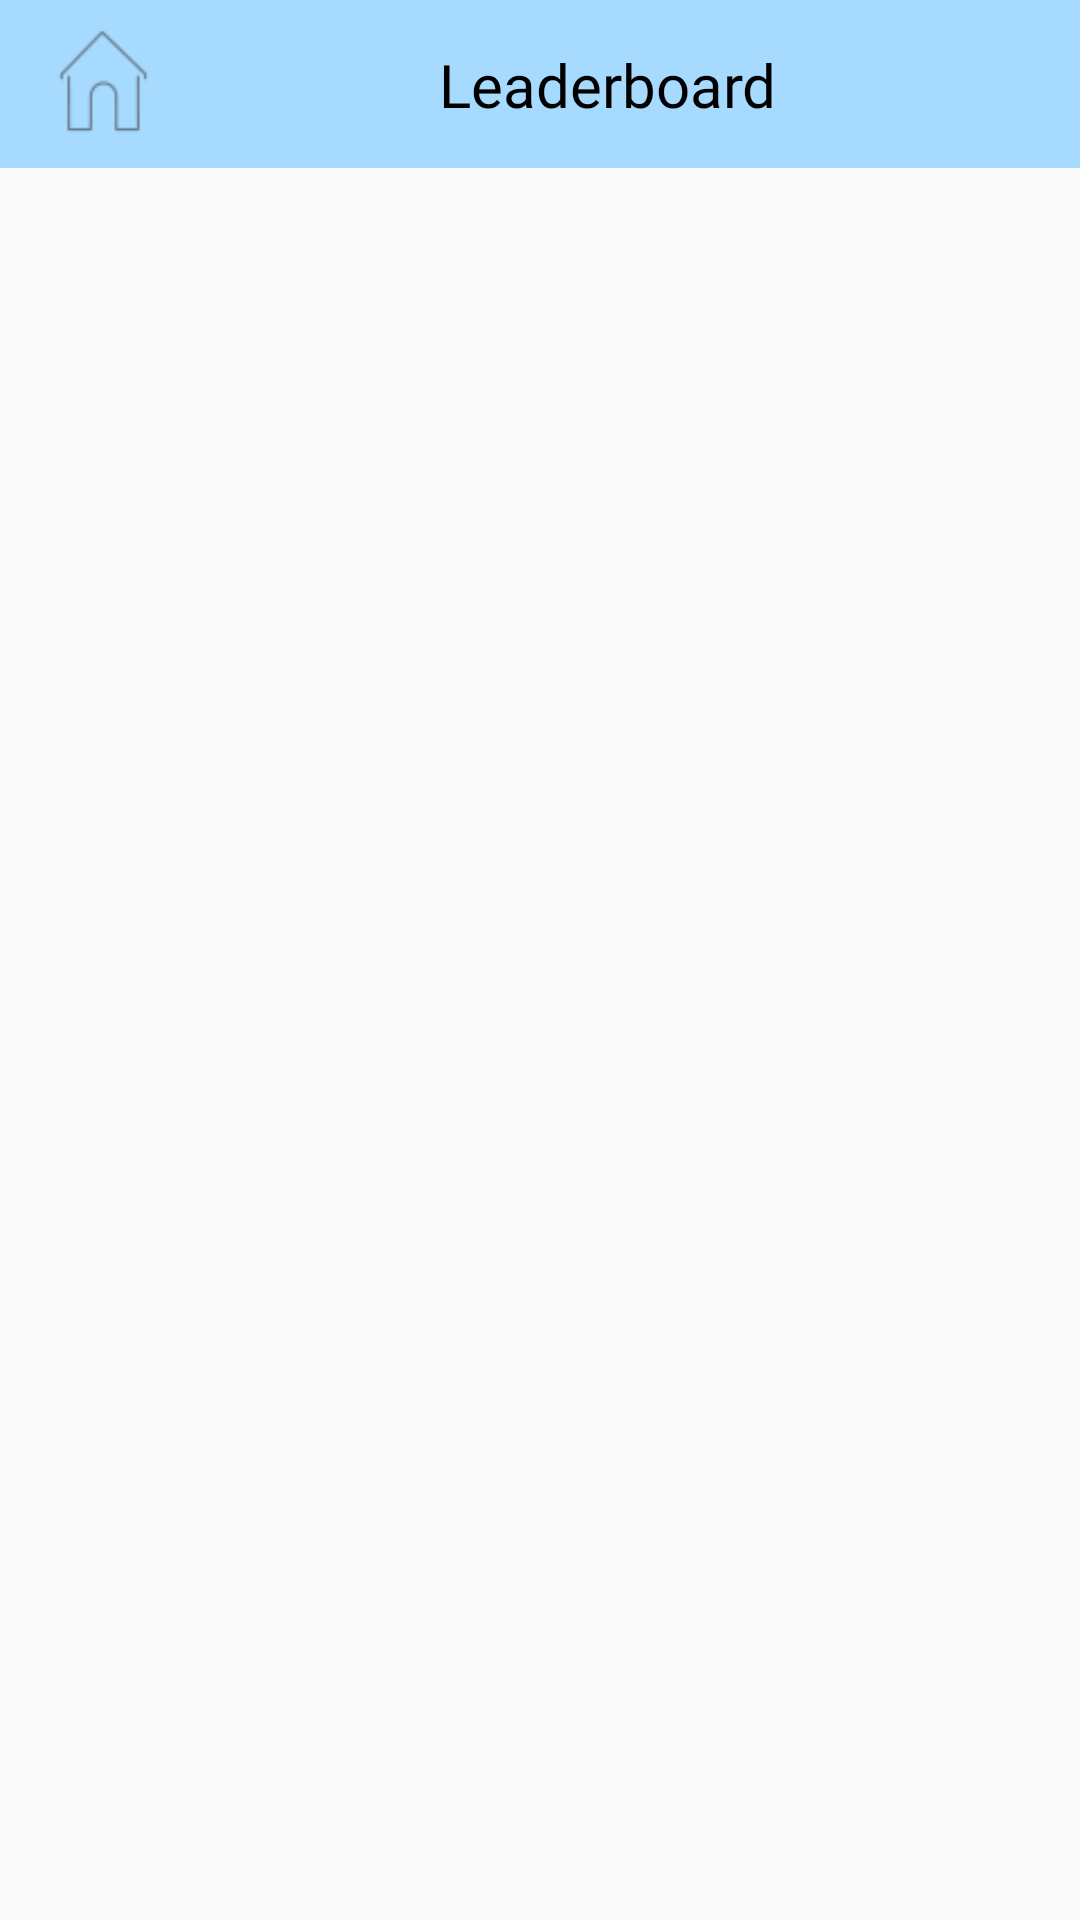

Icons on this 1080px x 1920px Android screen, each with the point to tap as point (x, y):
home: point (103, 81)
